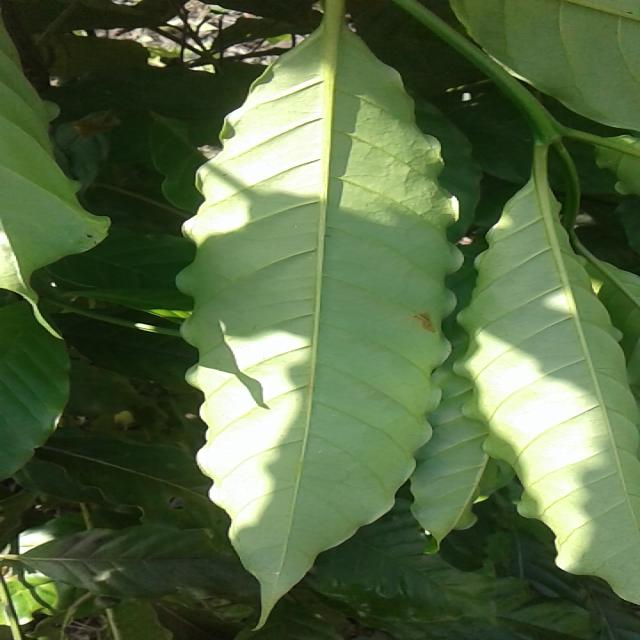Enfermedad-Roya: (175, 0, 467, 620)
